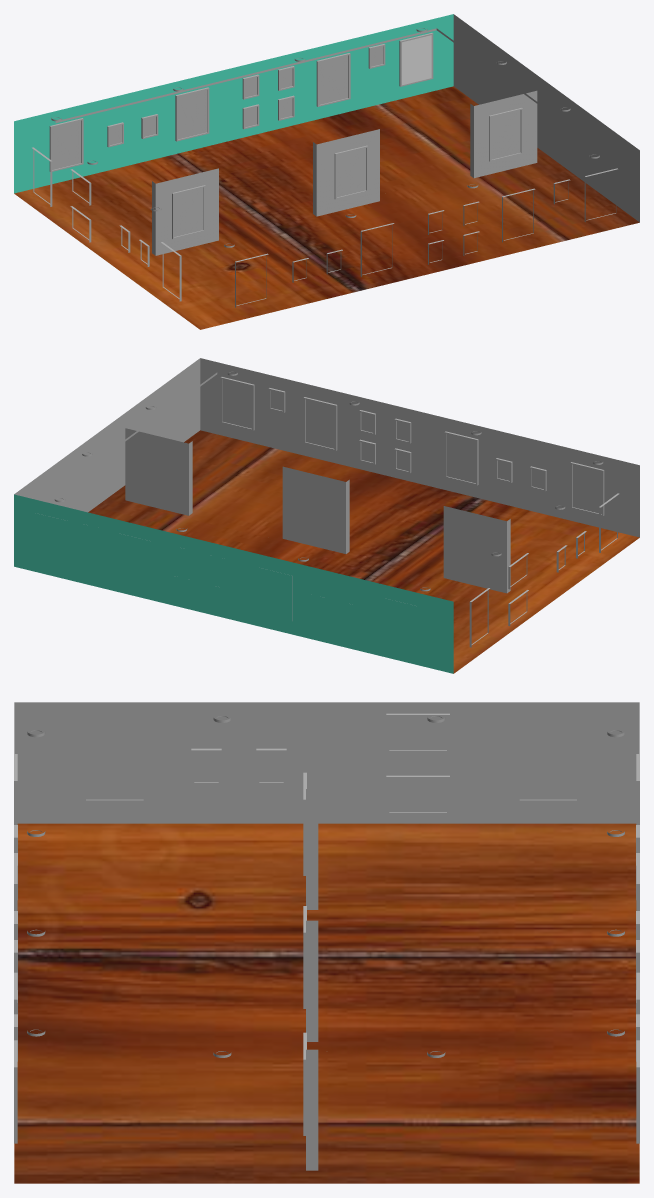
Rendered from museu.glb.
3 views of the same model, one above another, from view 1: azimuth 30°, elevation 25°; view 2: azimuth 150°, elevation 25°; view 3: azimuth 270°, elevation 25° (orthographic). The views are drawn at different scales.
Parts seen in each view (by area): view 1: Art_Room, PLANE_001; view 2: Art_Room; view 3: Art_Room, Lights.
Part boxes in pixels (left/top/right/bottom): Art_Room: left=14, top=14, right=639, bottom=329; PLANE_001: left=402, top=35, right=431, bottom=84; Art_Room: left=14, top=358, right=639, bottom=673; Art_Room: left=14, top=702, right=639, bottom=1183; Lights: left=27, top=716, right=624, bottom=1057.
Size of the model in its own units: 2764 by 447 by 2029.
4 materials, 1 textured.
